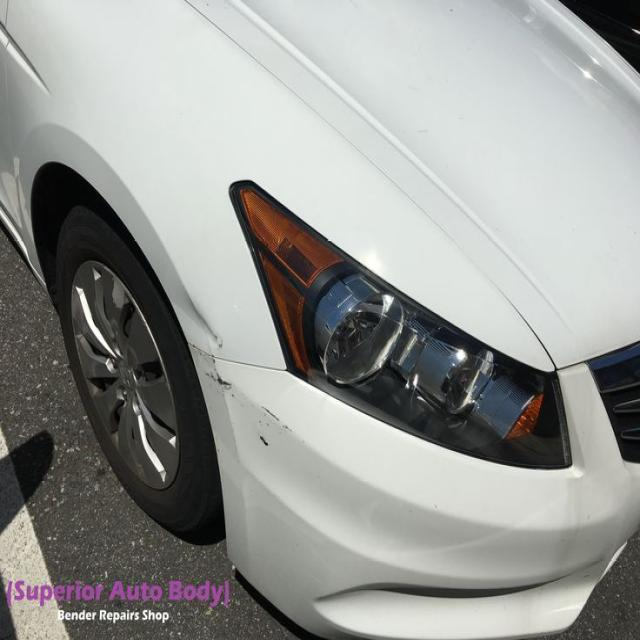dent: (180, 292, 223, 349)
scratch: (187, 342, 243, 407), (257, 403, 295, 449), (214, 334, 223, 351)
